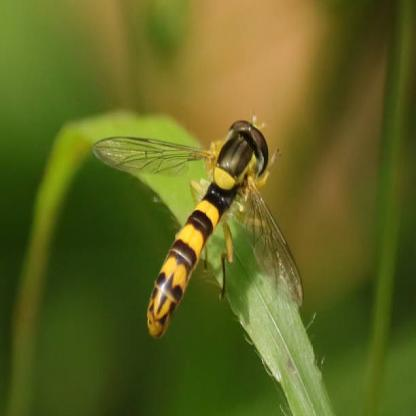sawfly: (88, 114, 307, 344)
